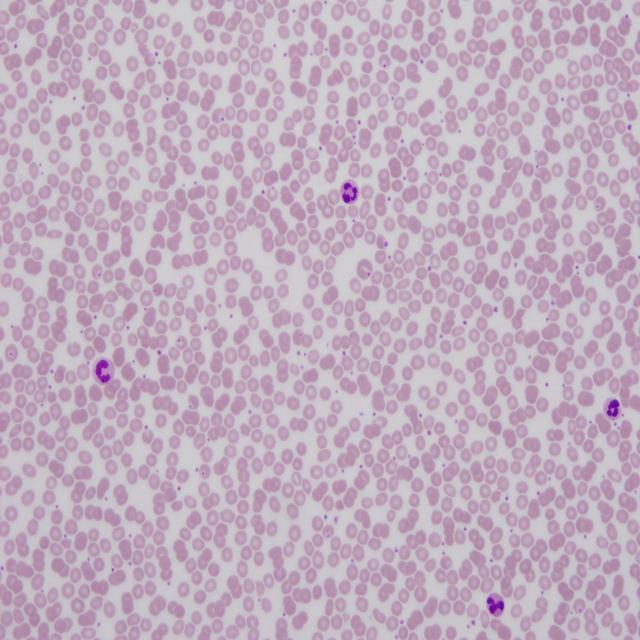cell: (92, 357, 115, 384), (340, 180, 359, 204), (486, 593, 505, 617), (604, 398, 621, 419)
